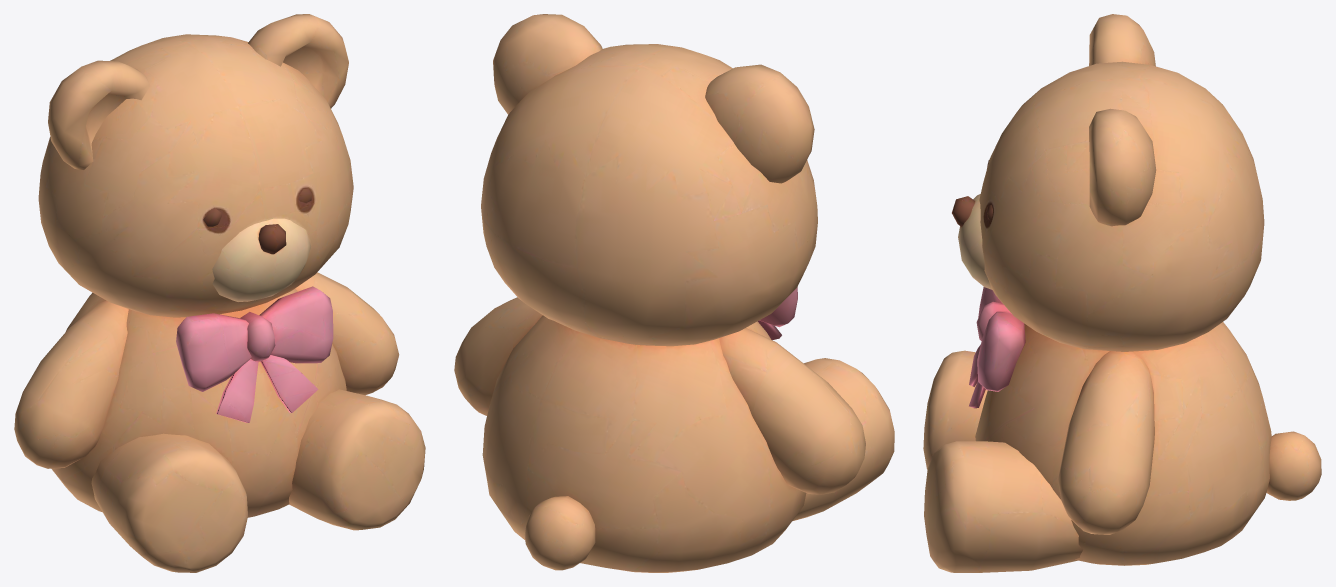
Rendered from gift-bear.glb.
3 views of the same model, side by side, from view 1: azimuth 30°, elevation 25°; view 2: azimuth 150°, elevation 25°; view 3: azimuth 270°, elevation 25° (orthographic). The views are drawn at different scales.
Visible parts, largest first — view 1: geometry_0; view 2: geometry_0; view 3: geometry_0.
Part boxes in pixels (box(x1,y1,x2,y2)): geometry_0: box(14, 14, 425, 572); geometry_0: box(454, 14, 894, 572); geometry_0: box(923, 14, 1321, 572).
Size of the model in its own units: 0.8654 by 1 by 0.7924.
1 material, 1 textured.
